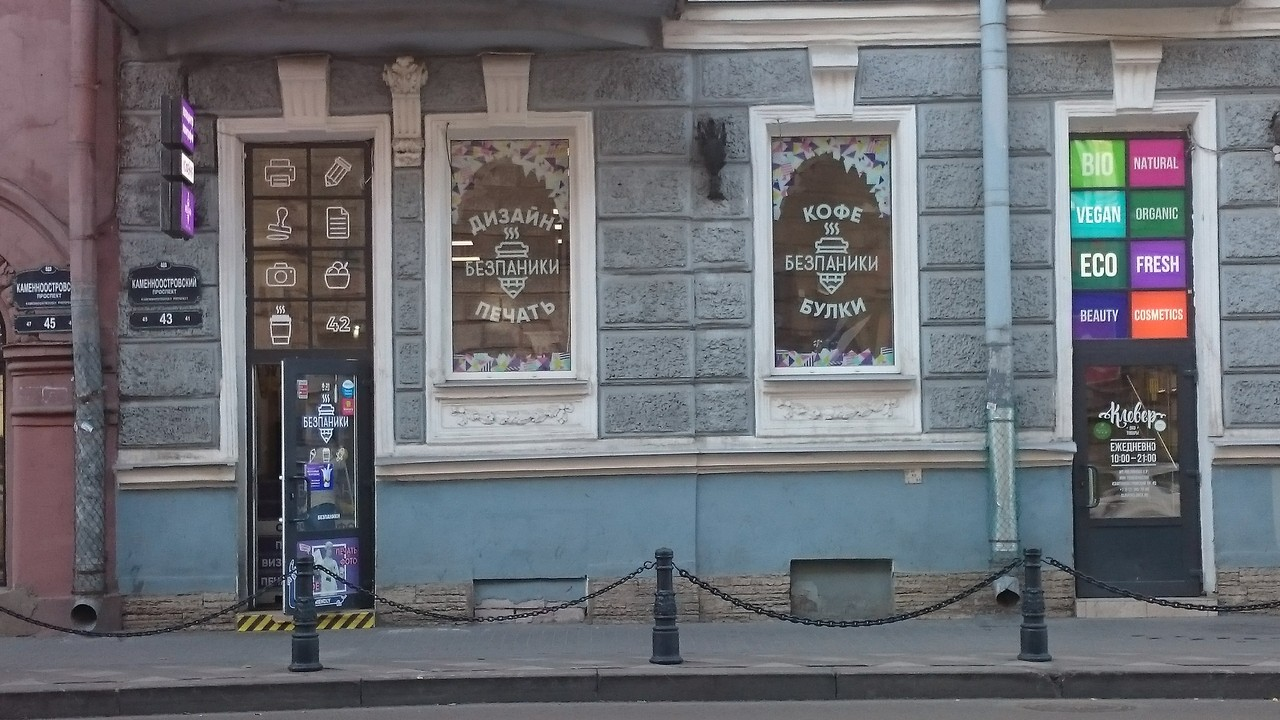cantilever: (159, 96, 208, 241)
door: (245, 355, 375, 612), (1073, 343, 1204, 598)
window: (770, 134, 900, 371), (449, 137, 573, 373), (248, 138, 370, 352)
